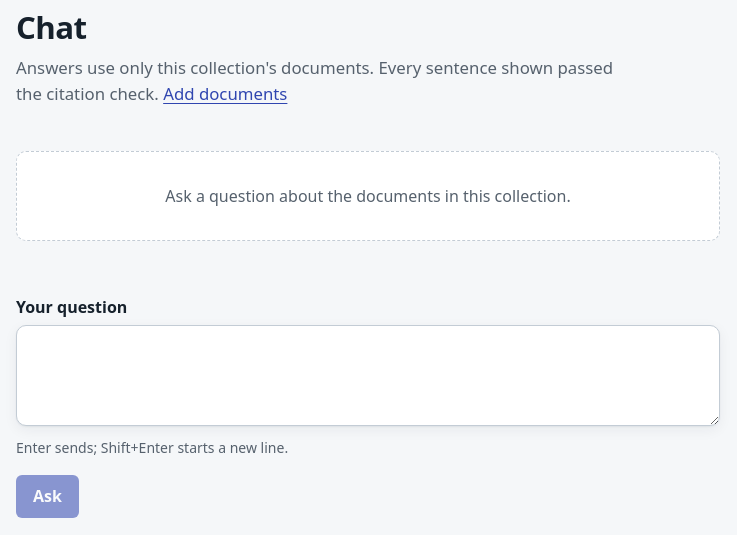
Test: the chat page shows the queue position from an accepted event
Type "What is attention?" into the text box labelled "Your question" at (368, 376), box [16,325,720,426]
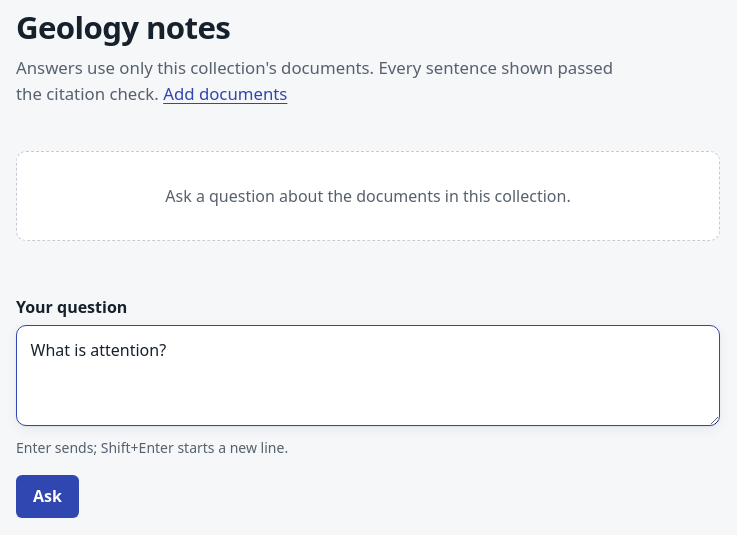
Press Enter
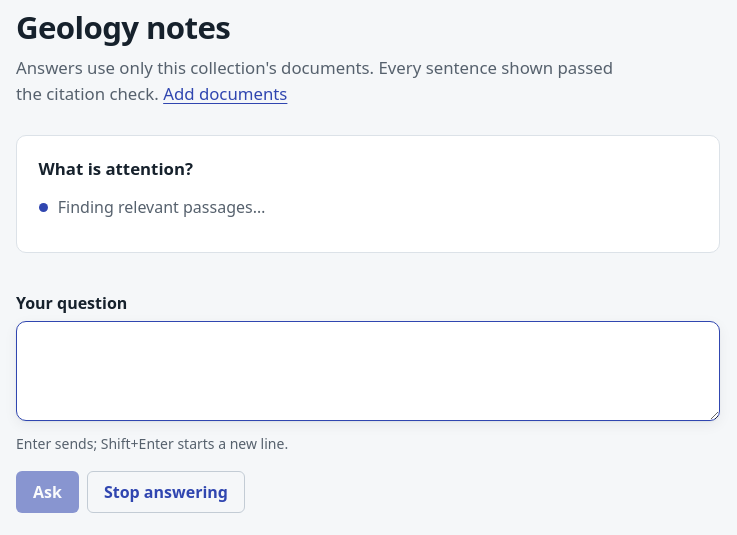
Check: the text "Finding relevant passages…" is shown, box [39,196,265,218]
